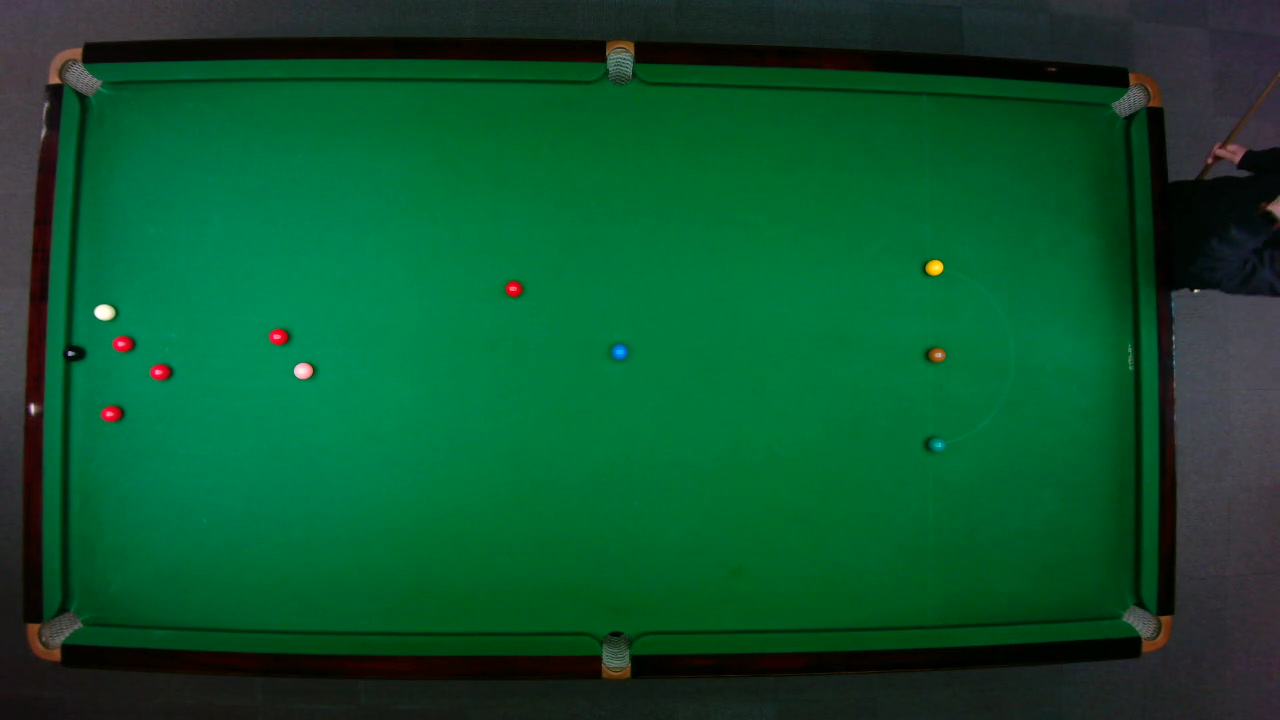bag: (25, 609, 83, 661), (45, 46, 102, 96), (1119, 603, 1172, 652), (1108, 71, 1161, 118), (600, 629, 629, 680), (605, 38, 633, 85)
black: (62, 344, 82, 361)
blue: (610, 342, 628, 360)
brown: (926, 346, 946, 362)
green: (926, 435, 946, 452)
pink: (291, 360, 314, 380)
red: (148, 362, 172, 381), (110, 334, 134, 352), (99, 404, 122, 422), (267, 327, 289, 345), (503, 279, 522, 297)
white: (91, 302, 116, 320)
yellow: (923, 258, 944, 276)
zone: (926, 264, 1013, 445)
